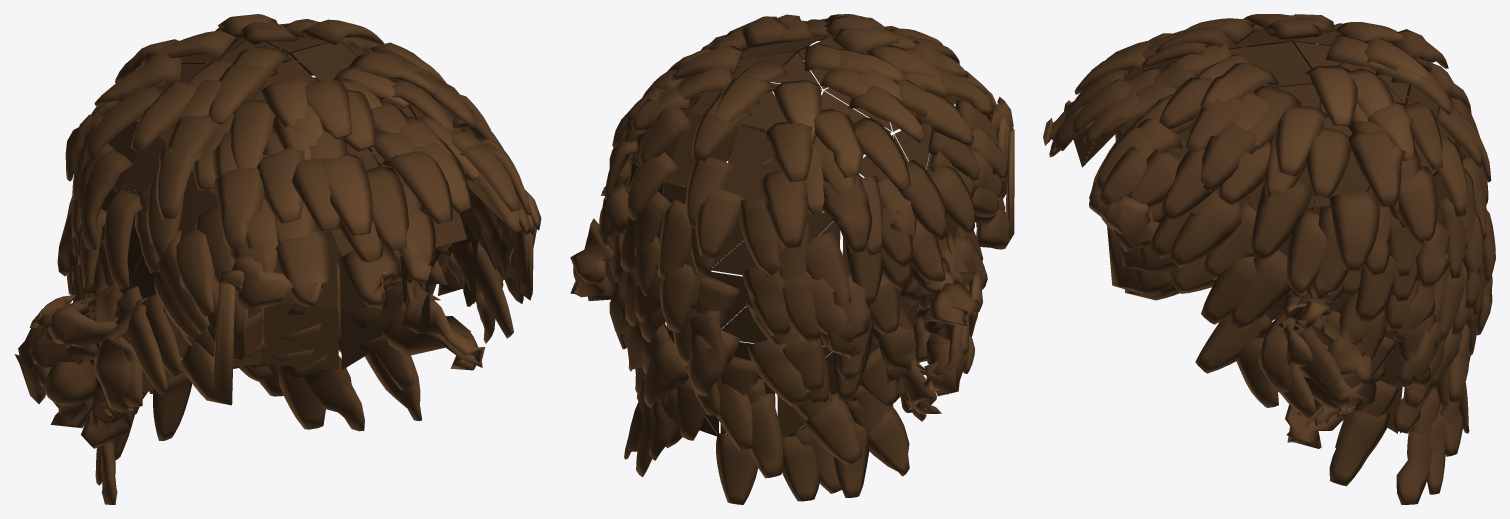
Rendered from kopf.haar.kurz.glb.
The picture shows the model from 3 angles, left to right: view 1: azimuth 30°, elevation 25°; view 2: azimuth 150°, elevation 25°; view 3: azimuth 270°, elevation 25°; orthographic projection. The views are drawn at different scales.
Visible parts, largest first — view 1: haar; view 2: haar; view 3: haar.
Boxes of the visible parts, x1,y1,x2,y2 form: haar: (14, 14, 541, 504); haar: (570, 14, 1014, 504); haar: (1043, 14, 1495, 504).
Bounding box in the file's own units: 0.247 × 0.2415 × 0.2373.
